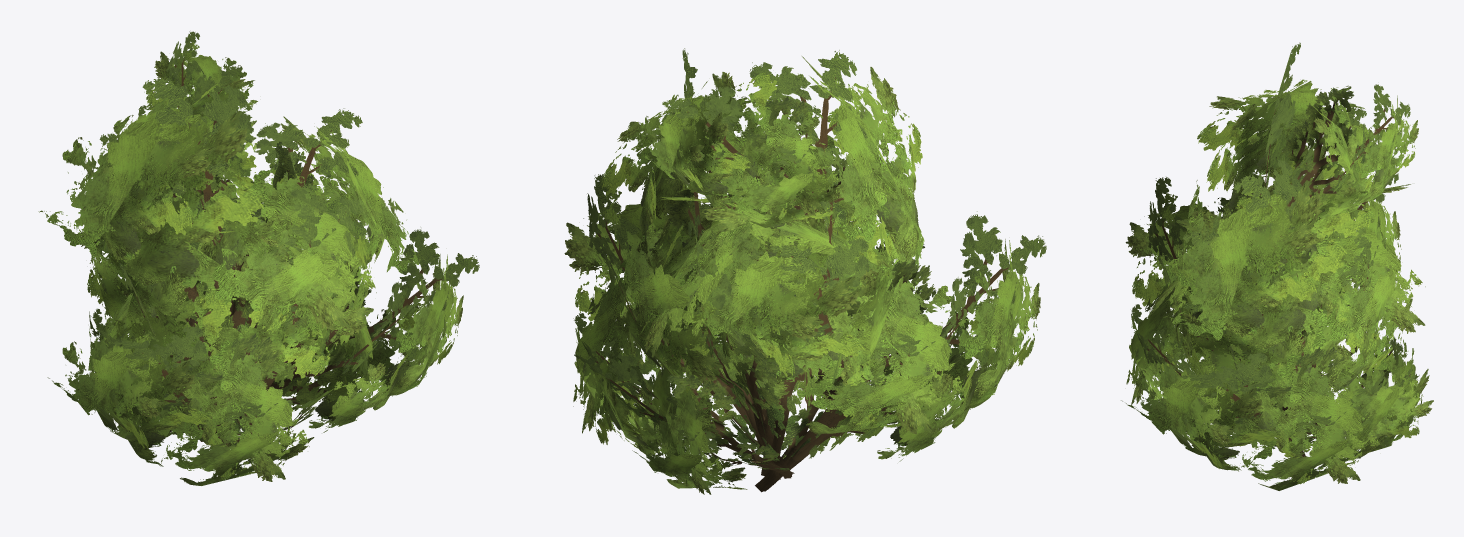
The model's file is Buisson02_TransferedNormals.fbx.
3 renders of one model, left to right at view 1: azimuth 30°, elevation 25°; view 2: azimuth 150°, elevation 25°; view 3: azimuth 270°, elevation 25°, orthographic. The views are drawn at different scales.
Visible parts, largest first — view 1: Buisson02_TransferedNormals; view 2: Buisson02_TransferedNormals; view 3: Buisson02_TransferedNormals.
Boxes of the visible parts, left/top/right/bottom form: Buisson02_TransferedNormals: left=38, top=31, right=479, bottom=485; Buisson02_TransferedNormals: left=564, top=48, right=1046, bottom=494; Buisson02_TransferedNormals: left=1121, top=42, right=1433, bottom=490.
Bounding box in the file's own units: 2.66 × 2.6 × 2.02.
